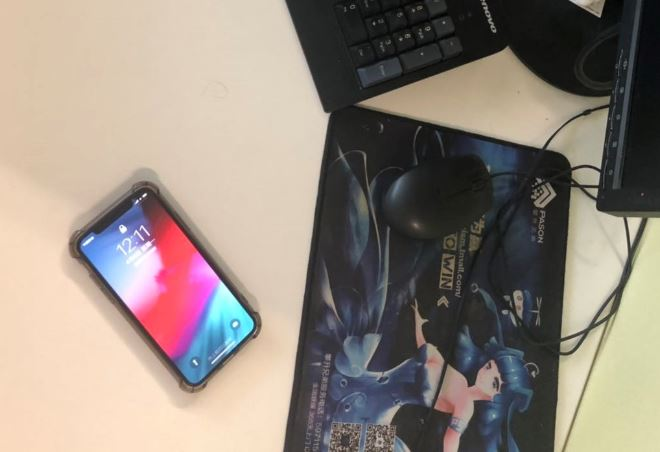mobil: (66, 178, 263, 396)
